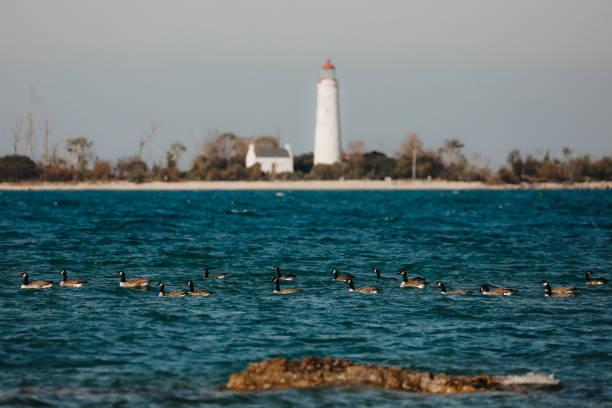Canadian-Goose: (538, 278, 579, 300), (14, 270, 51, 291), (114, 269, 151, 288), (346, 277, 379, 298), (398, 268, 427, 291), (56, 268, 86, 289), (270, 278, 301, 298), (185, 280, 213, 302), (583, 269, 611, 288), (435, 280, 470, 295), (155, 280, 181, 299), (479, 282, 511, 297), (270, 265, 298, 282), (196, 266, 227, 281), (372, 264, 396, 281), (325, 267, 352, 281)
